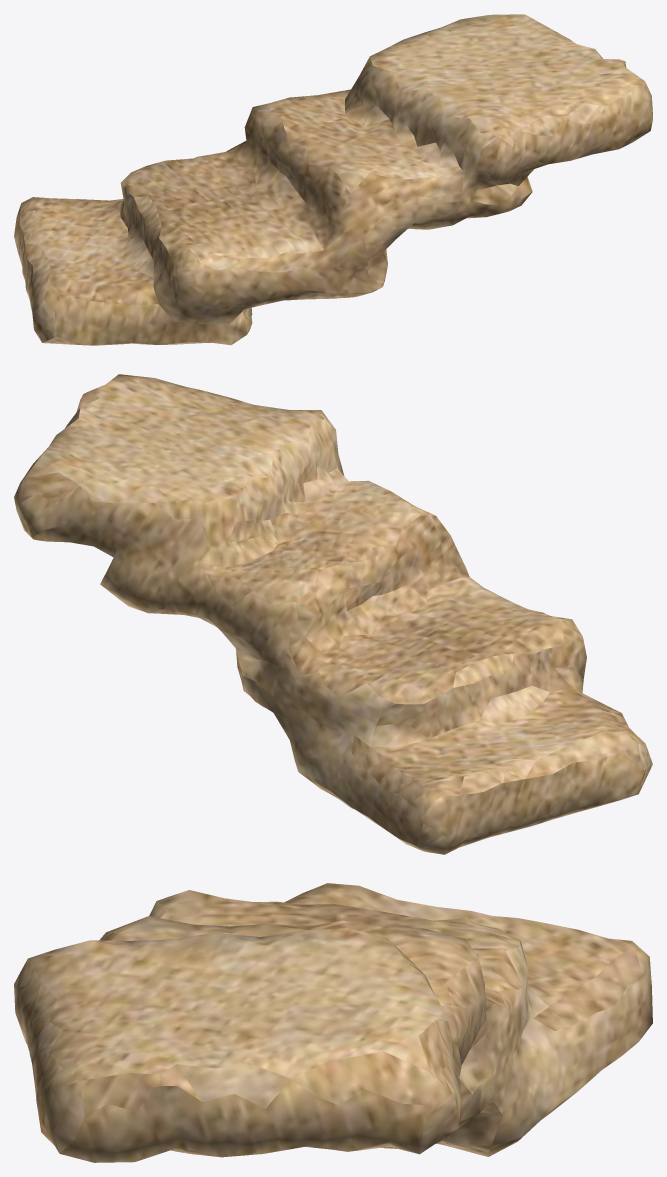
File: plataforma_4.obj
The picture shows the model from 3 angles, top to bottom: view 1: azimuth 30°, elevation 25°; view 2: azimuth 150°, elevation 25°; view 3: azimuth 270°, elevation 25°; orthographic projection. The views are drawn at different scales.
Visible parts, largest first — view 1: plataforma_4_Stone_B; view 2: plataforma_4_Stone_B; view 3: plataforma_4_Stone_B.
Part boxes in pixels (x1,y1,x2,y2): plataforma_4_Stone_B: (14,14,652,345); plataforma_4_Stone_B: (14,374,652,854); plataforma_4_Stone_B: (14,883,652,1162).
Bounding box in the file's own units: 3.99 × 1.39 × 2.5.
Materials: 1 (1 with a texture image).
